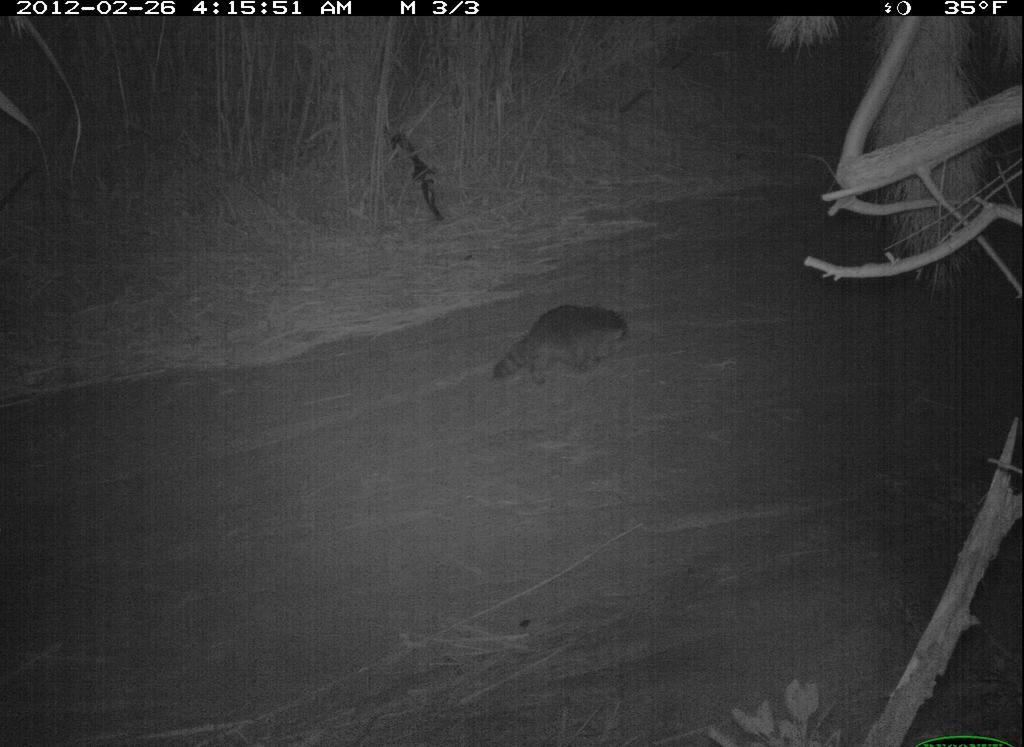raccoon: (483, 281, 639, 409)
